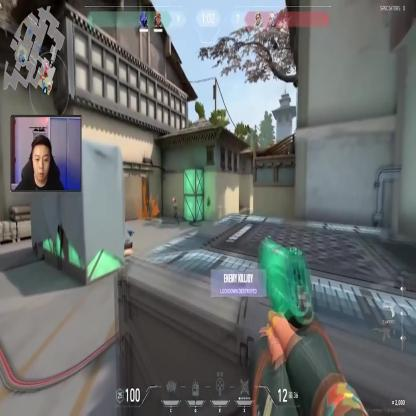enemy: (173, 197, 180, 225)
enemy_head: (172, 197, 176, 202)
